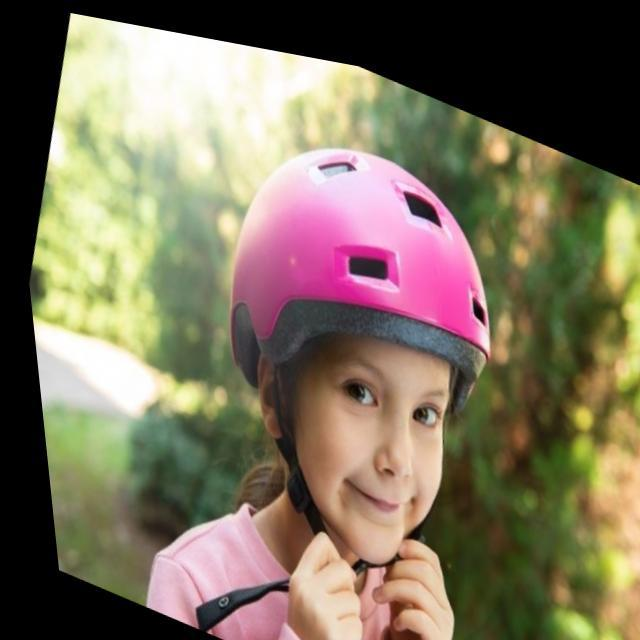Helmet: (213, 142, 496, 573)
